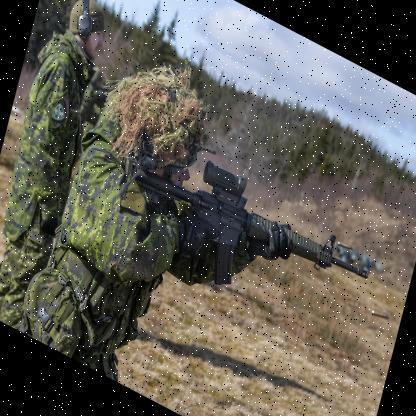rifle: (124, 133, 384, 349)
